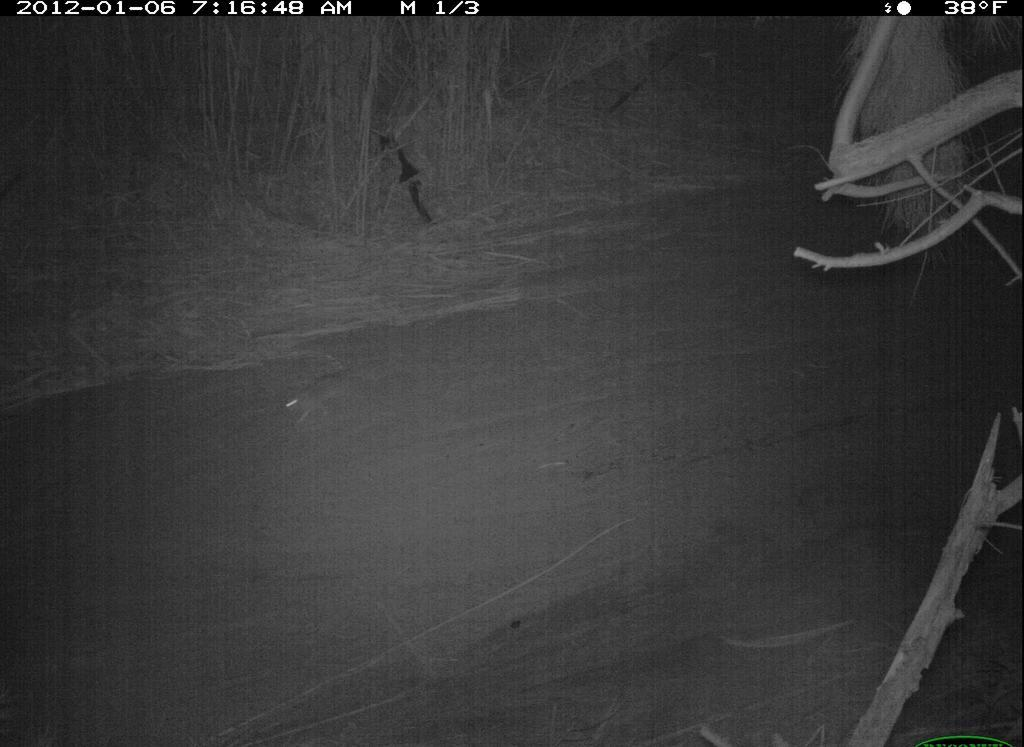rabbit: (272, 364, 369, 428)
